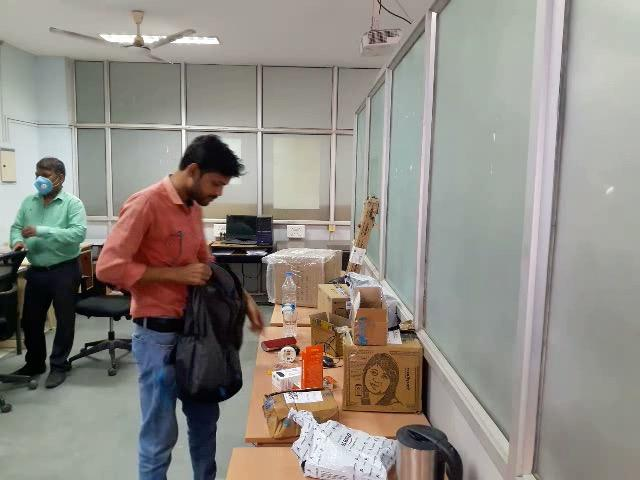Normal: (83, 125, 270, 480)
